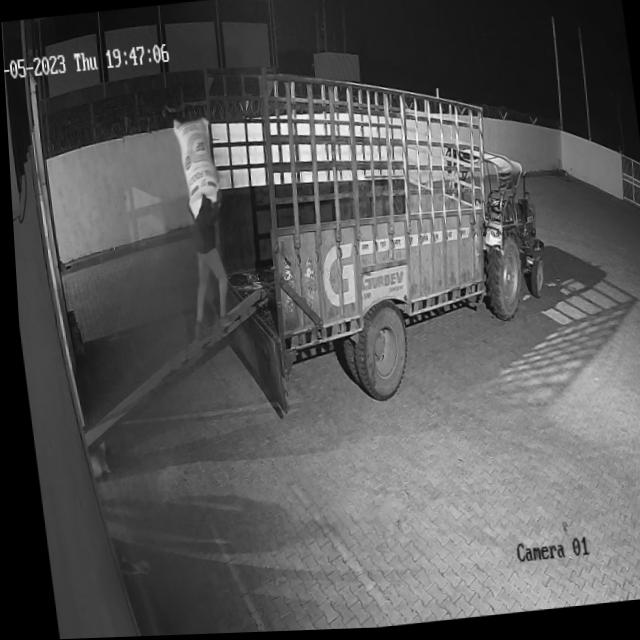sack: (170, 116, 221, 219)
